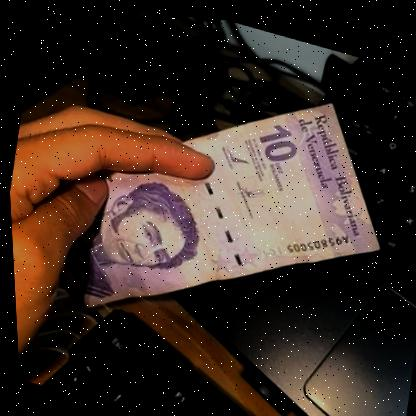ten-front-vef: (64, 34, 411, 383)
